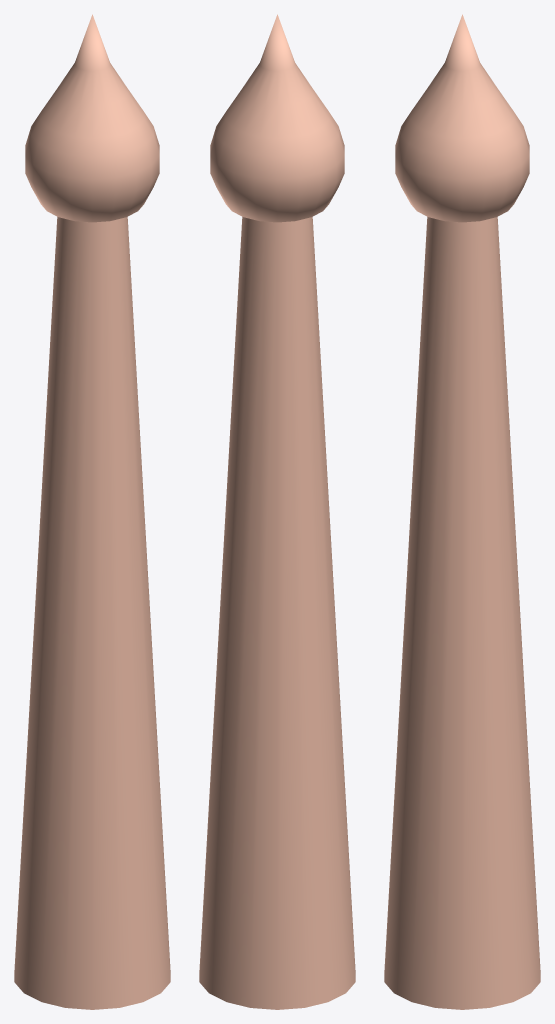
The model's file is Castillo_PilarD.fbx.
The picture shows the model from 3 angles, left to right: view 1: azimuth 30°, elevation 25°; view 2: azimuth 150°, elevation 25°; view 3: azimuth 270°, elevation 25°; orthographic projection.
Visible parts, largest first — view 1: Castillo_PilarD; view 2: Castillo_PilarD; view 3: Castillo_PilarD.
Part boxes in pixels (x1,y1,x2,y2): Castillo_PilarD: (14, 14, 170, 1009); Castillo_PilarD: (199, 14, 355, 1009); Castillo_PilarD: (384, 14, 540, 1009).
Size of the model in its own units: 12075 by 80917 by 11892.
